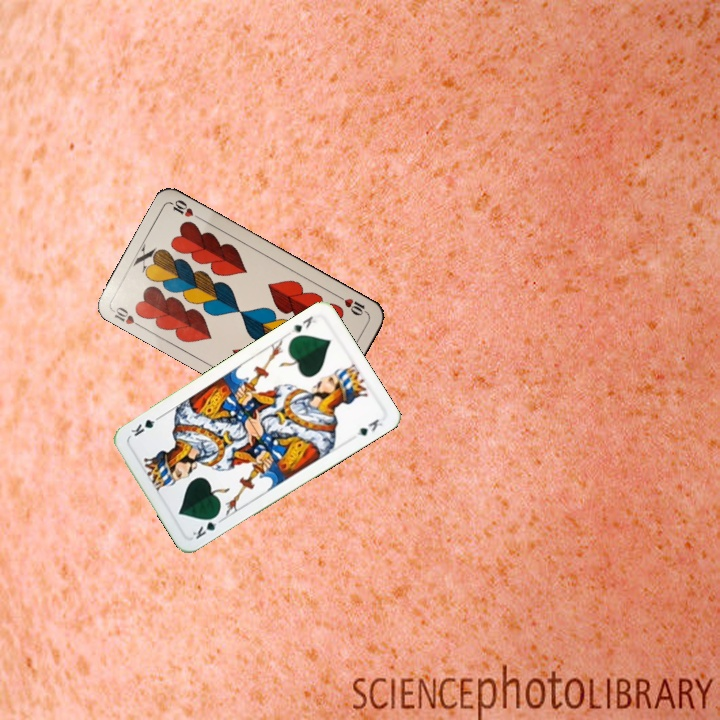GK: (188, 510, 222, 542), (287, 312, 319, 335)
H10: (108, 303, 146, 331), (333, 291, 370, 318)
